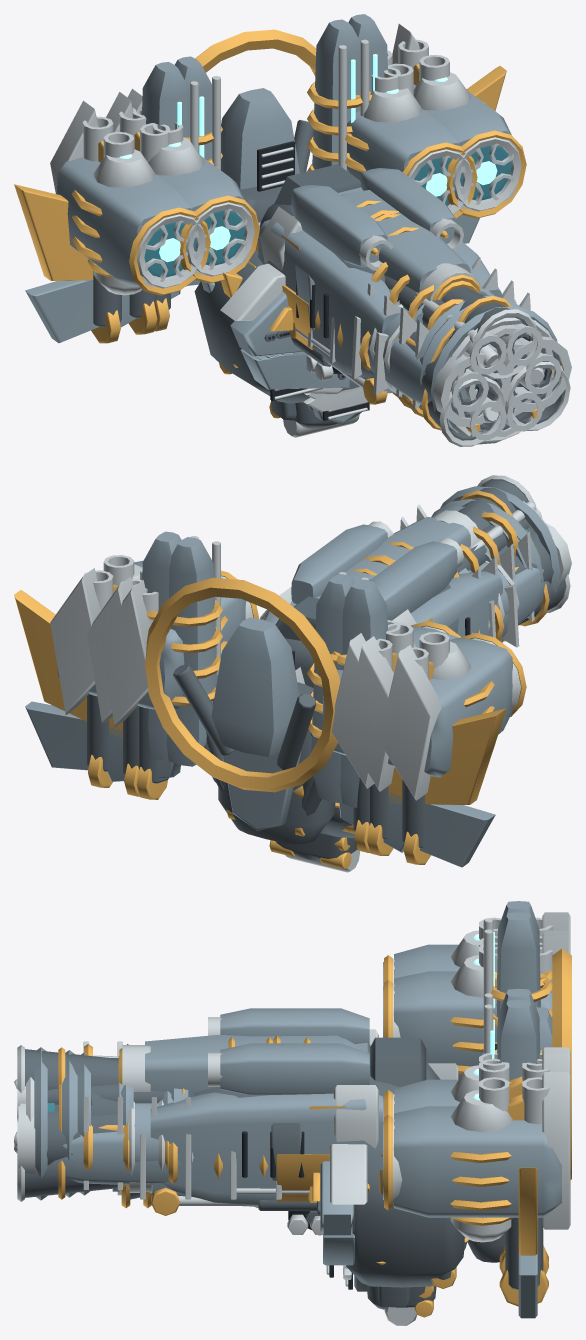
File: guardian-library.glb
3 renders of one model, top to bottom at view 1: azimuth 30°, elevation 25°; view 2: azimuth 150°, elevation 25°; view 3: azimuth 270°, elevation 25°, orthographic. The views are drawn at different scales.
Visible parts, largest first — view 1: bastion__Weapon5__Main, bastion__Back5__Main, helio__Back5__Accent, bastion__Back3__Main, glacier__Back5__LightGrey, relay__Back5__Main, relay__Weapon5__LightGrey, zephyr__Weapon5__LightGrey, bastion__Weapon3__Main, relay__Back5__LightGrey, helio__Back5__Main, relay__Back4__Main (+51 smaller); view 2: helio__Back5__Accent, bastion__Back5__Main, glacier__Back5__LightGrey, bastion__Weapon5__Main, glacier__Back3__LightGrey, relay__Back5__Main, glacier__Back4__LightGrey, helio__Back5__Main, relay__Back4__Main, relay__Back3__Main, helio__Back5__Grey, relay__Back3__Grey (+32 smaller); view 3: bastion__Weapon5__Main, bastion__Back5__Main, atlas__Chest__Grey, bastion__Back3__Main, glacier__Back5__LightGrey, bastion__Weapon3__Main, relay__Weapon5__LightGrey, helio__Back5__Accent, relay__Back5__Main, echo__Weapon5__Grey, relay__Weapon4__Main, relay__Back4__Main (+40 smaller).
Boxes of the visible parts, x1,y1,x2,y2 form: bastion__Weapon5__Main: (258,168,501,377); bastion__Back5__Main: (56,84,511,286); helio__Back5__Accent: (14,29,506,280); bastion__Back3__Main: (155,110,460,211); glacier__Back5__LightGrey: (50,24,470,295); relay__Back5__Main: (144,19,468,285); relay__Weapon5__LightGrey: (260,206,569,424); zephyr__Weapon5__LightGrey: (451,323,561,440); bastion__Weapon3__Main: (341,190,470,393); relay__Back5__LightGrey: (140,45,516,286); helio__Back5__Main: (25,214,479,343); relay__Back4__Main: (142,14,387,286); helio__Back5__Accent: (14,577,506,804); bastion__Back5__Main: (57,560,512,777); glacier__Back5__LightGrey: (50,564,470,800); bastion__Weapon5__Main: (264,524,502,636); glacier__Back3__LightGrey: (99,580,417,788); relay__Back5__Main: (89,537,431,803); glacier__Back4__LightGrey: (86,577,394,791); helio__Back5__Main: (25,688,495,867); relay__Back4__Main: (142,531,387,807); relay__Back3__Main: (138,656,343,831); helio__Back5__Grey: (173,664,315,770); relay__Back3__Grey: (213,675,335,844); bastion__Weapon5__Main: (119,1008,382,1206); bastion__Back5__Main: (394,944,561,1217); atlas__Chest__Grey: (317,1149,464,1287); bastion__Back3__Main: (394,971,552,1113); glacier__Back5__LightGrey: (450,912,570,1242); bastion__Weapon3__Main: (145,1035,359,1196); relay__Weapon5__LightGrey: (128,1017,378,1205); helio__Back5__Accent: (518,948,571,1255); relay__Back5__Main: (496,912,547,1052); echo__Weapon5__Grey: (25,1049,118,1197); relay__Weapon4__Main: (48,1131,181,1185); relay__Back4__Main: (497,901,539,1080).
Size of the model in its own units: 3.08 by 2.09 by 2.96.
